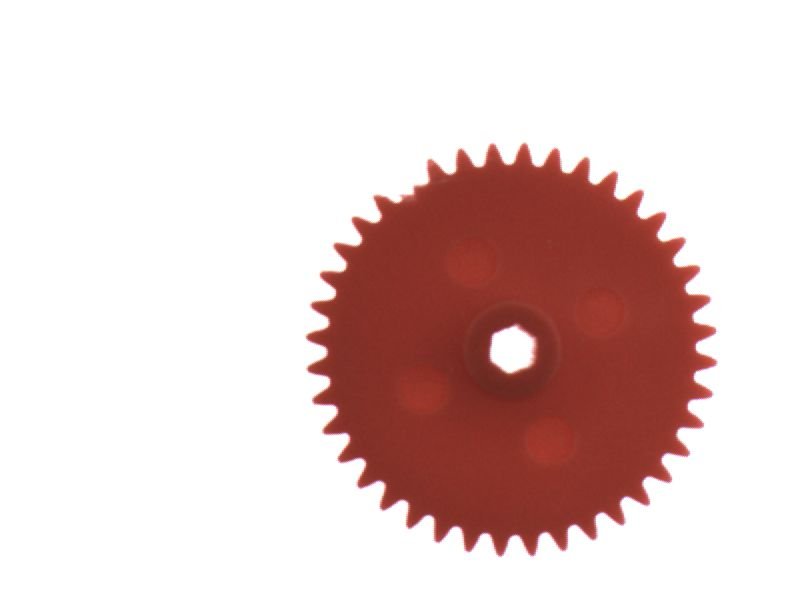defect_lack: (380, 157, 439, 209)
